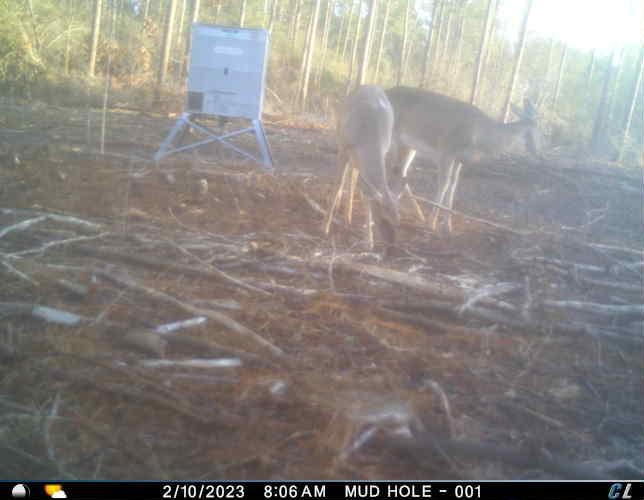Deer: (384, 86, 552, 234), (317, 80, 407, 256)
